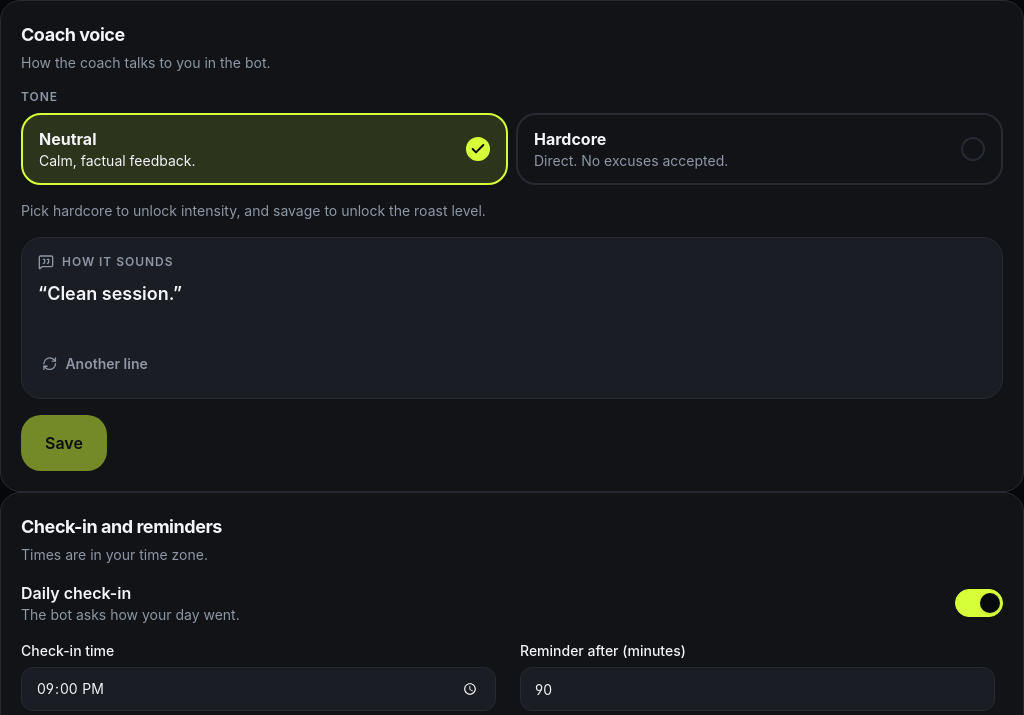
Test: Coach & reminders › refuses reminder minutes out of range
Replace the text in the field labelled "Reminder after (minutes)" with "999". click: [758, 689]
box: [520,667,995,711]
(page scrolled)
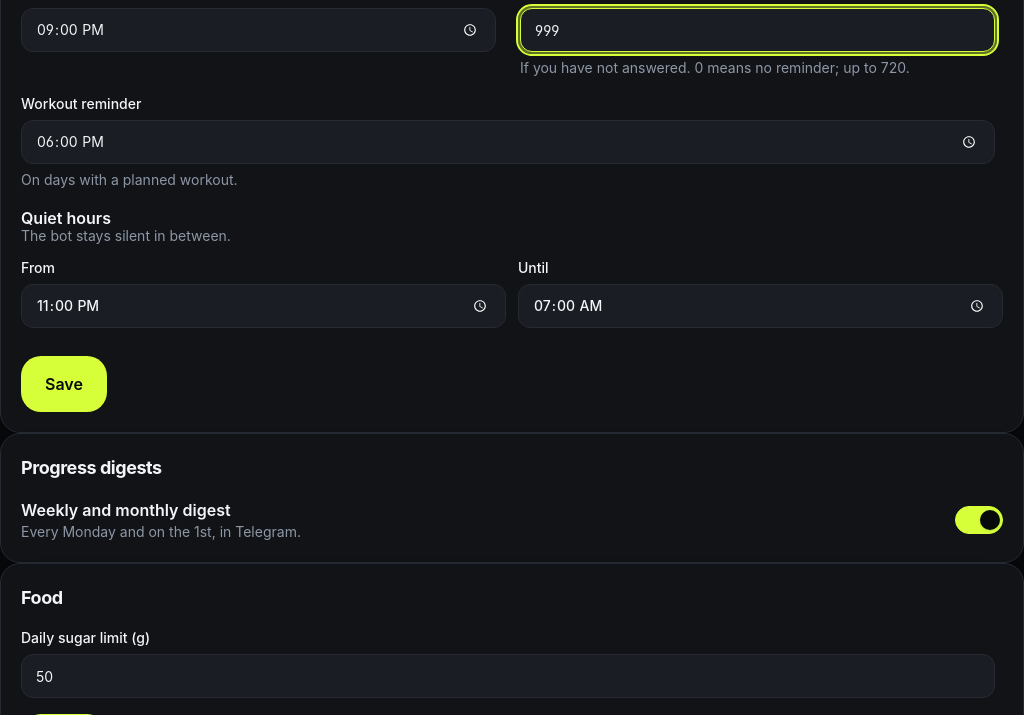
Click the button "Save" below "From". click: [64, 384]
box: [21,356,107,412]
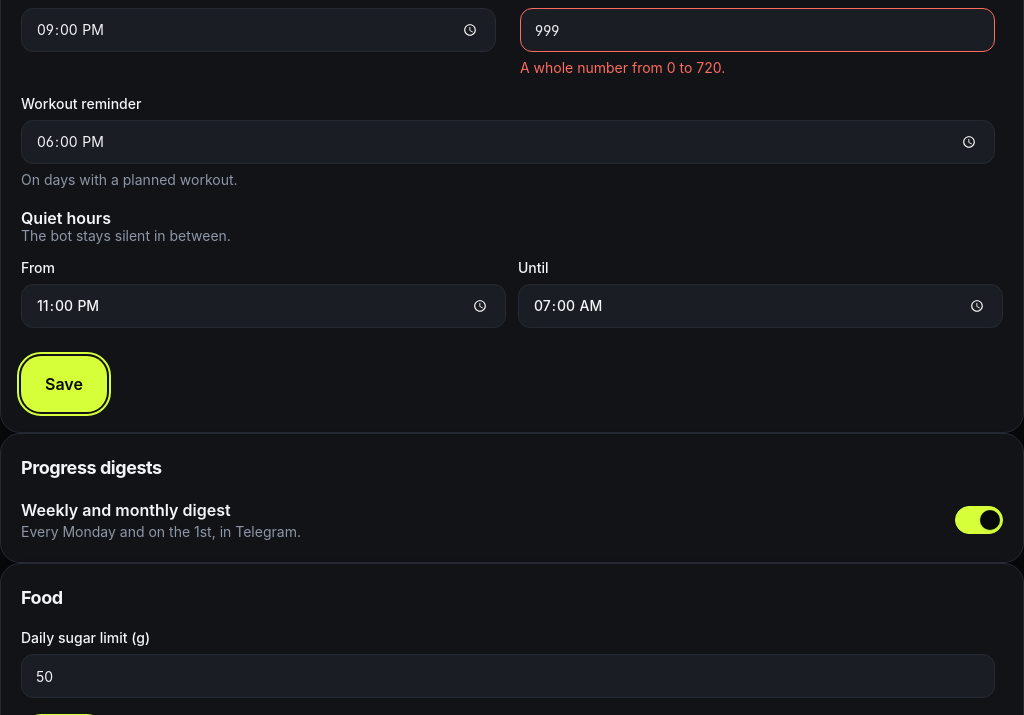
Check: the text "A whole number from 0 to 720." is shown, box [520,59,725,76]
